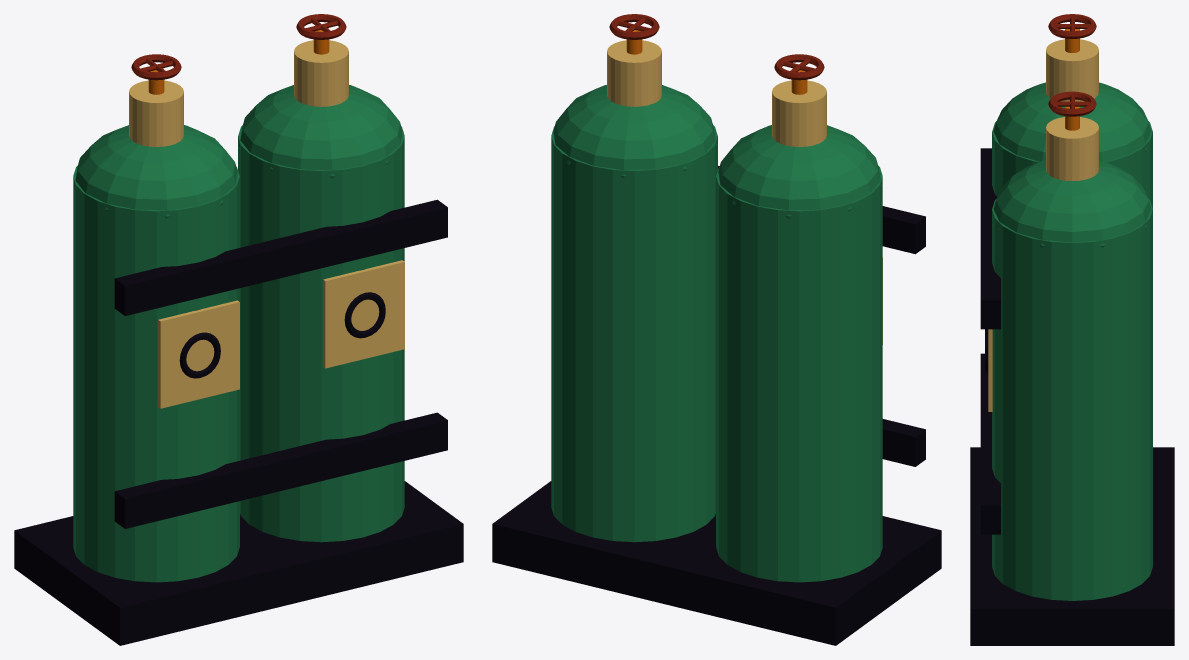
The model's file is oxygen_tank_neon6.fbx.
3 renders of one model, left to right at view 1: azimuth 30°, elevation 25°; view 2: azimuth 150°, elevation 25°; view 3: azimuth 270°, elevation 25°, orthographic. The views are drawn at different scales.
Visible parts, largest first — view 1: Part_2, Part_0, Part_1; view 2: Part_2, Part_0, Part_1; view 3: Part_1, Part_2, Part_0.
Part boxes in pixels (left/top/right/bottom): Part_2: left=14, top=139, right=463, bottom=645; Part_0: left=73, top=54, right=445, bottom=582; Part_1: left=127, top=14, right=447, bottom=541; Part_2: left=492, top=153, right=941, bottom=645; Part_0: left=716, top=54, right=925, bottom=582; Part_1: left=551, top=14, right=921, bottom=542; Part_1: left=980, top=91, right=1152, bottom=600; Part_2: left=970, top=135, right=1174, bottom=645; Part_0: left=980, top=14, right=1152, bottom=298.
Bounding box in the file's own units: 1.5 × 2.17 × 0.8.
